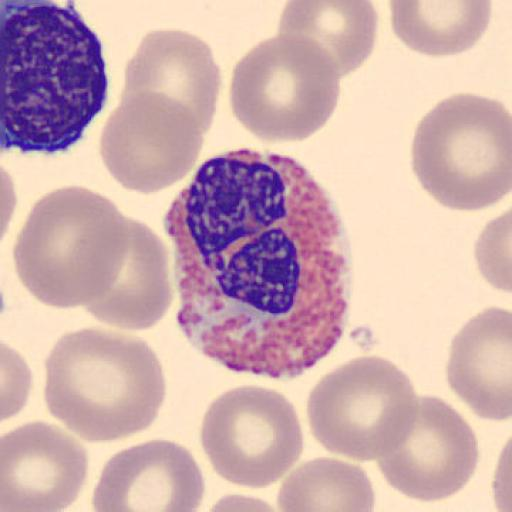RBC: (11, 183, 130, 311), (42, 324, 168, 444), (227, 32, 342, 146), (408, 90, 512, 214), (305, 354, 419, 464), (373, 393, 480, 504), (198, 384, 305, 490), (98, 90, 206, 195), (118, 26, 222, 135), (77, 216, 173, 331), (90, 437, 207, 512), (2, 417, 90, 512), (276, 0, 380, 78), (445, 306, 512, 422), (388, 0, 494, 59), (275, 454, 376, 512), (472, 204, 512, 295), (1, 338, 33, 424), (202, 491, 289, 512), (490, 430, 512, 512), (0, 157, 18, 247)
WBC: (164, 153, 354, 382), (169, 226, 354, 381), (0, 1, 112, 155)
